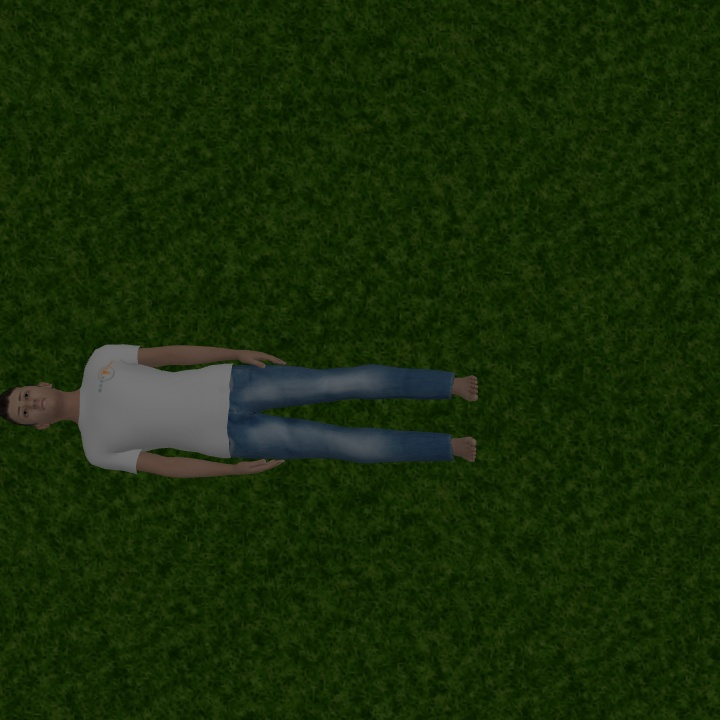victim: (1, 341, 480, 482)
